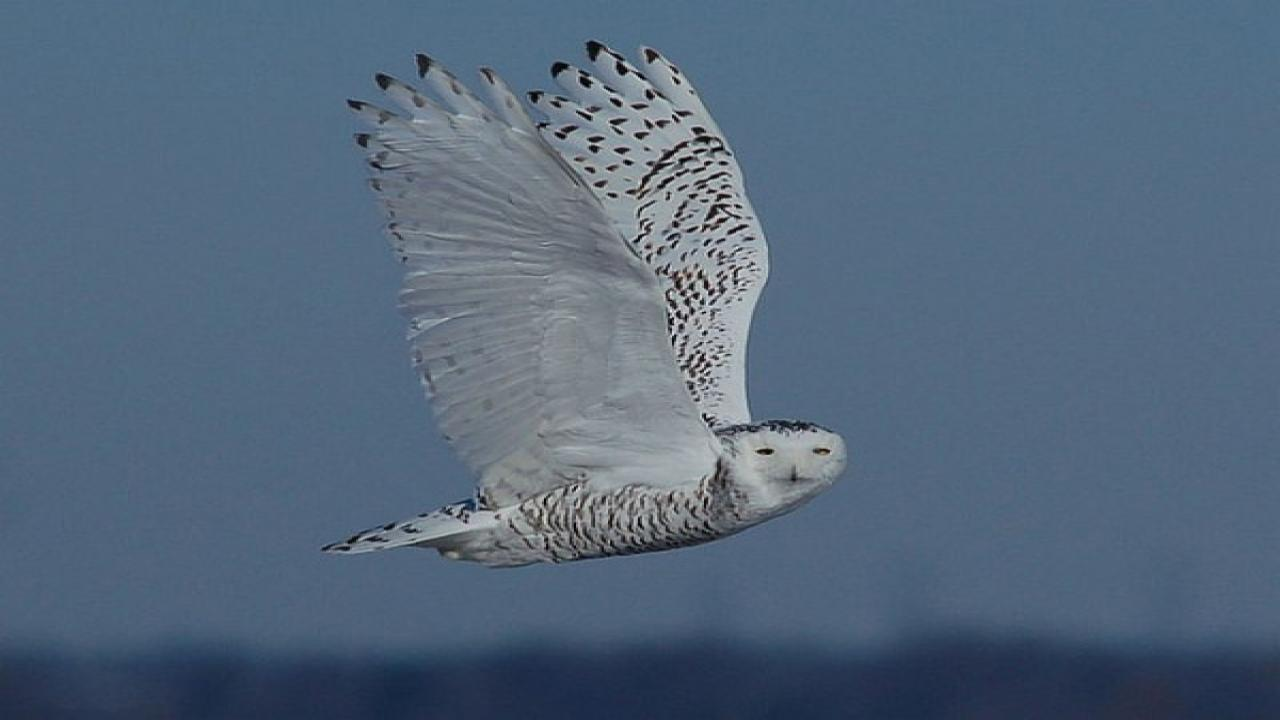Bird: (297, 29, 863, 582)
